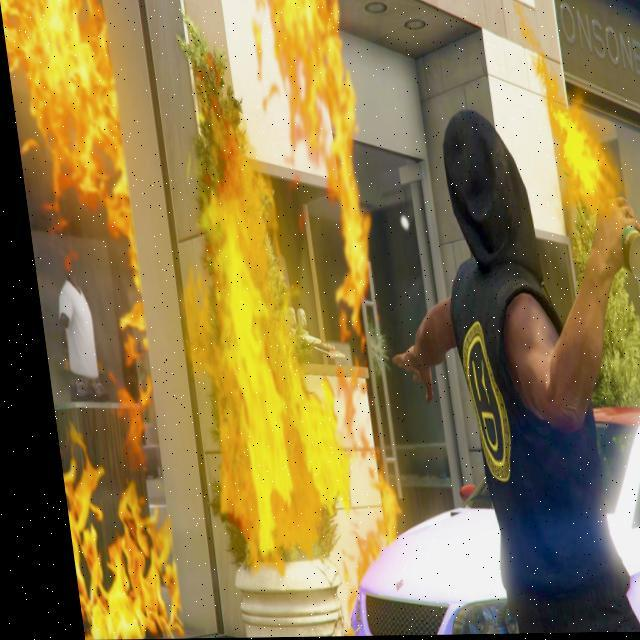Fire: (0, 0, 417, 639), (522, 39, 634, 232)
